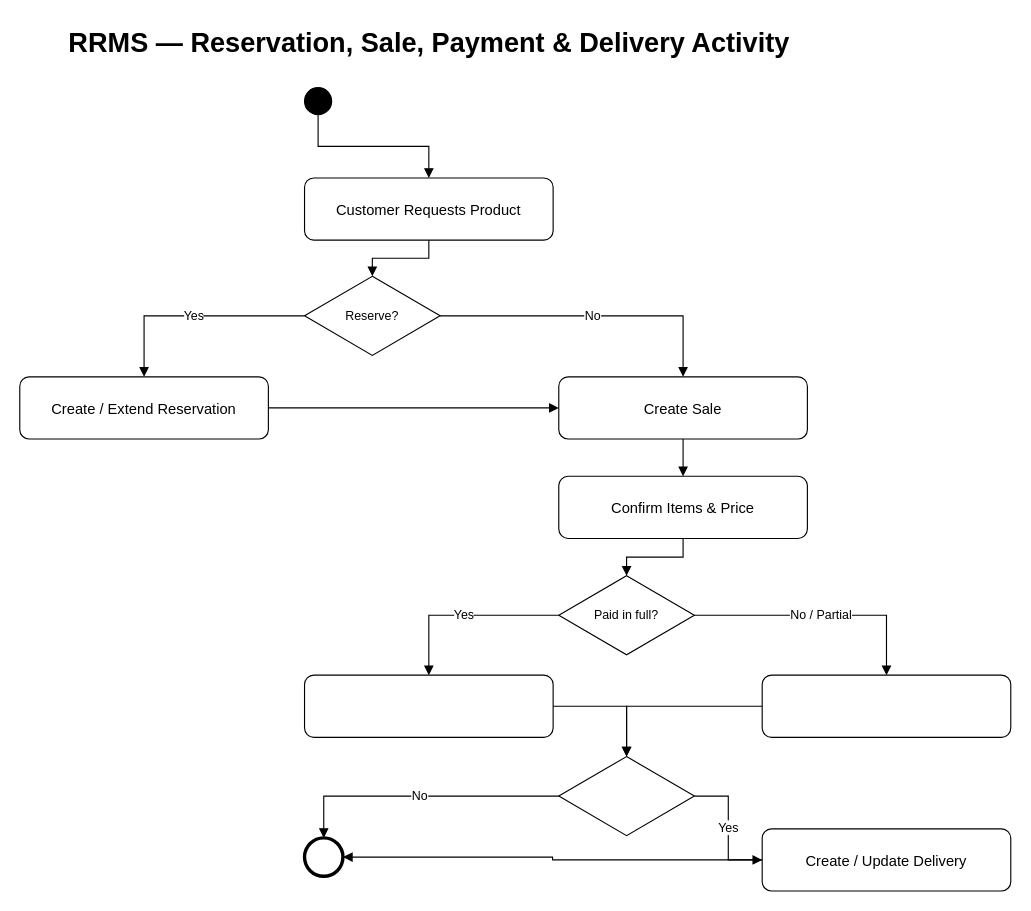
The diagram is 1031 pixels wide and 911 high, and some of its shapes have lost their labels. The shapes that lost their labels are listed below. From the top down, each one's centre as x and y in pixels, then its label:
At (428,705): "Record Payment".
At (886,705): "Create Outstanding Balance".
At (626,795): "Delivery?".
